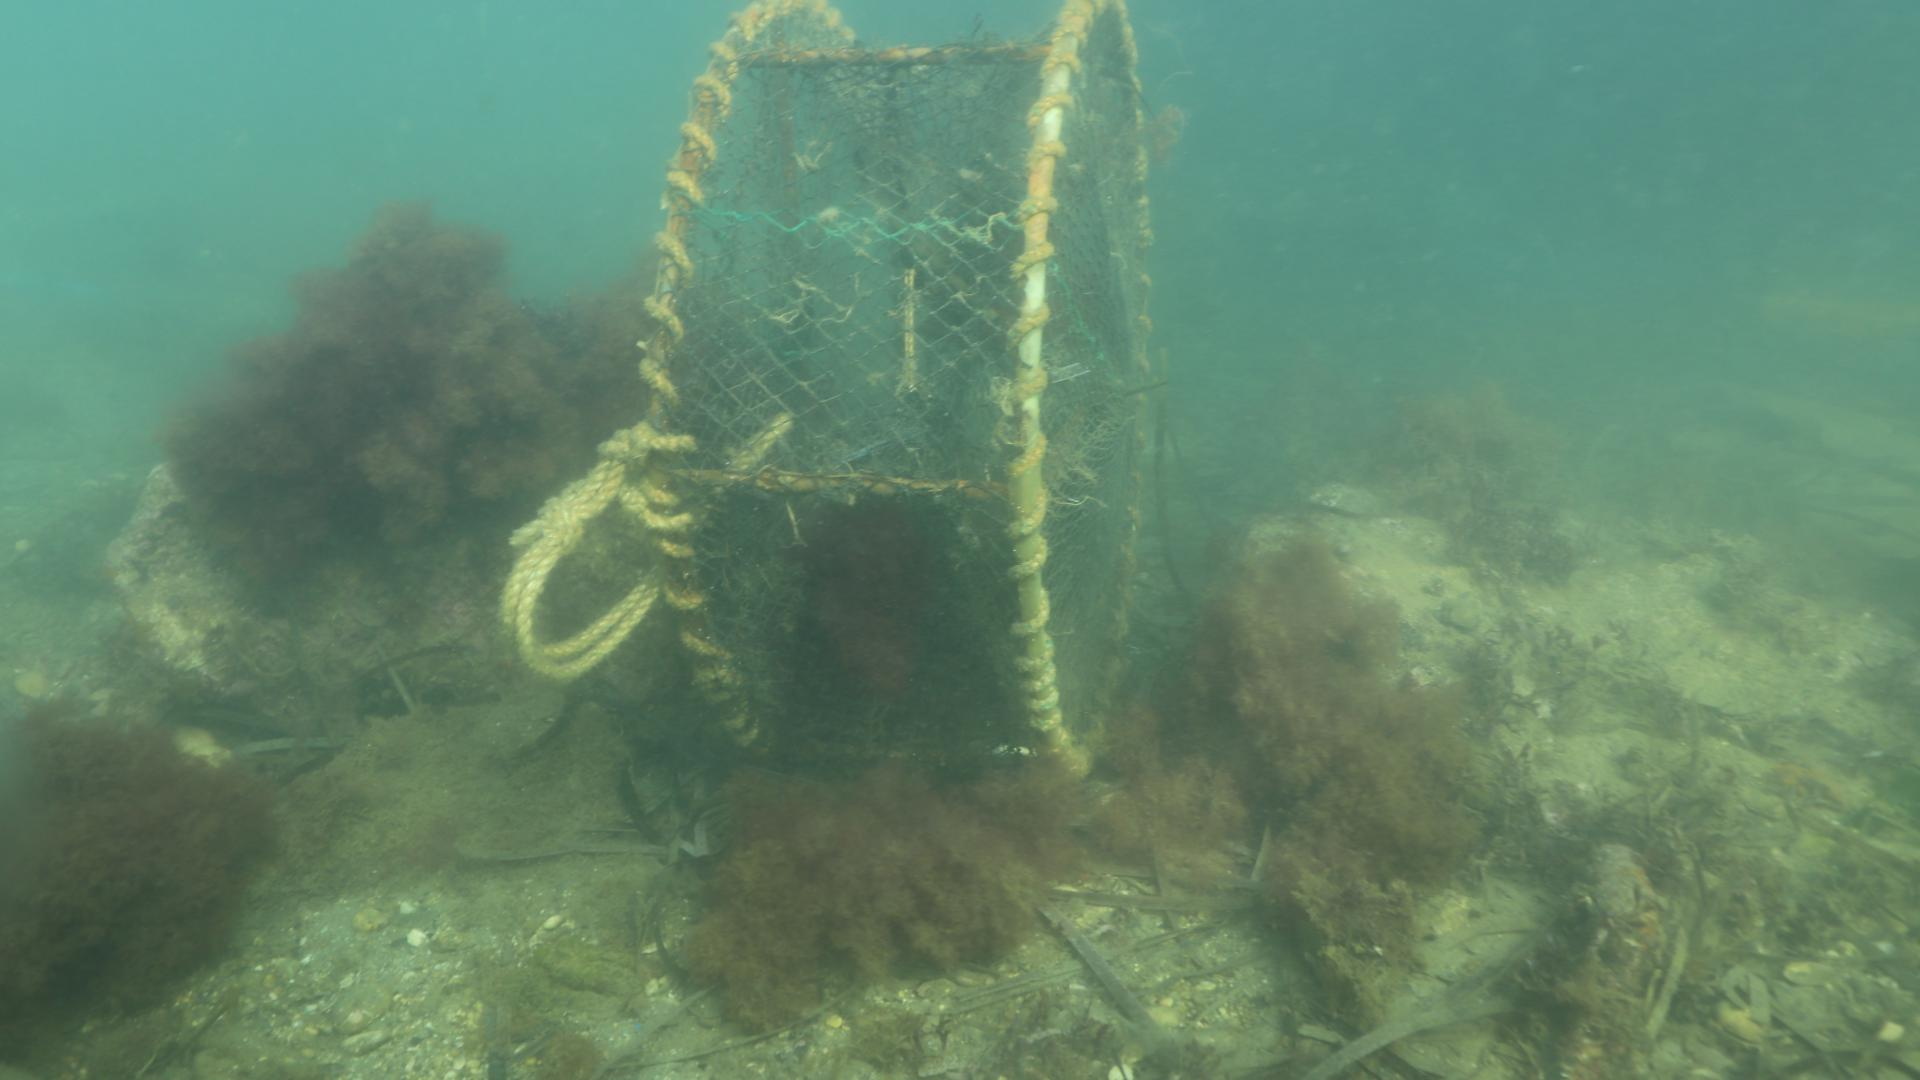bundle of ropes: (492, 422, 659, 686)
circular fish trap: (634, 0, 1153, 779)
